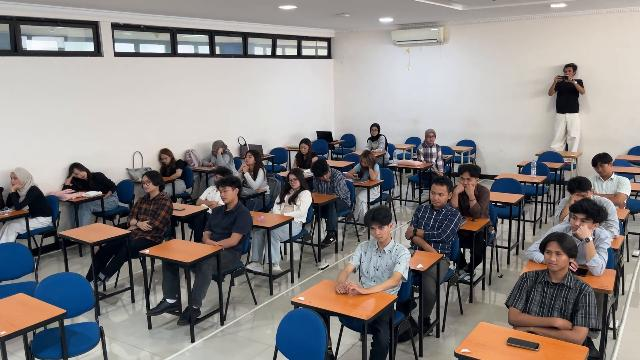bosan: (571, 213, 593, 232), (545, 248, 563, 270), (370, 225, 387, 242), (430, 188, 445, 206), (595, 163, 610, 176), (142, 177, 154, 192), (219, 186, 230, 202), (460, 175, 474, 187), (74, 168, 87, 179), (10, 172, 19, 186), (289, 176, 299, 188), (245, 153, 254, 164), (161, 154, 170, 164), (300, 144, 308, 154), (361, 158, 367, 167)
